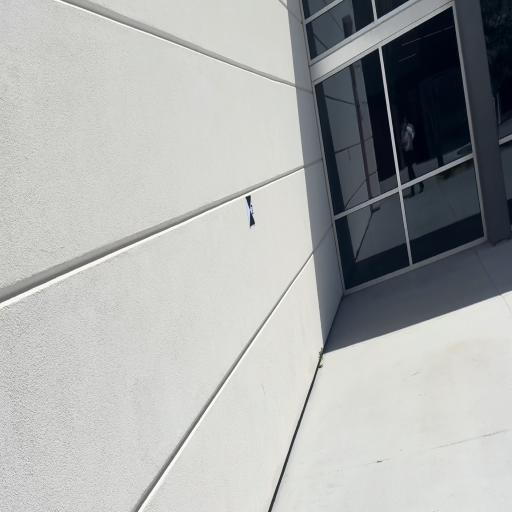target7: (245, 194, 256, 227)
